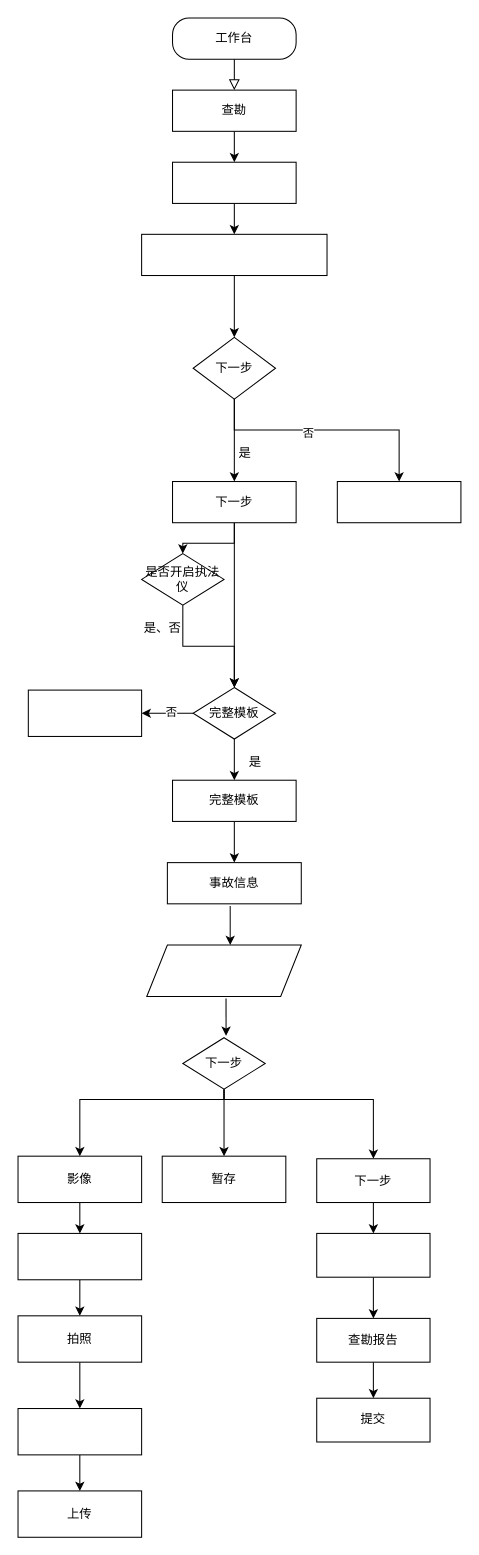
Some shapes in this 479 by 1555 pixel diagram are drawn without their labels. The shapes that lost their labels are listed below. From the top down, each one's centre as x and y in pixels, then its label:
(233,182): 任务
(234,254): 案件详情、保单详情、历史索赔
(398,501): 改派
(84,712): 简易模板
(223,970): 防渗漏风险信息、标的车推荐、三者车推荐、事故信息
(79,1256): 照片查看
(373,1254): 损失项
(79,1431): 影像上传
